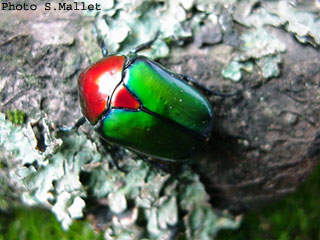Protaetia_speciosa_jousseliniw: (72, 46, 215, 162)
